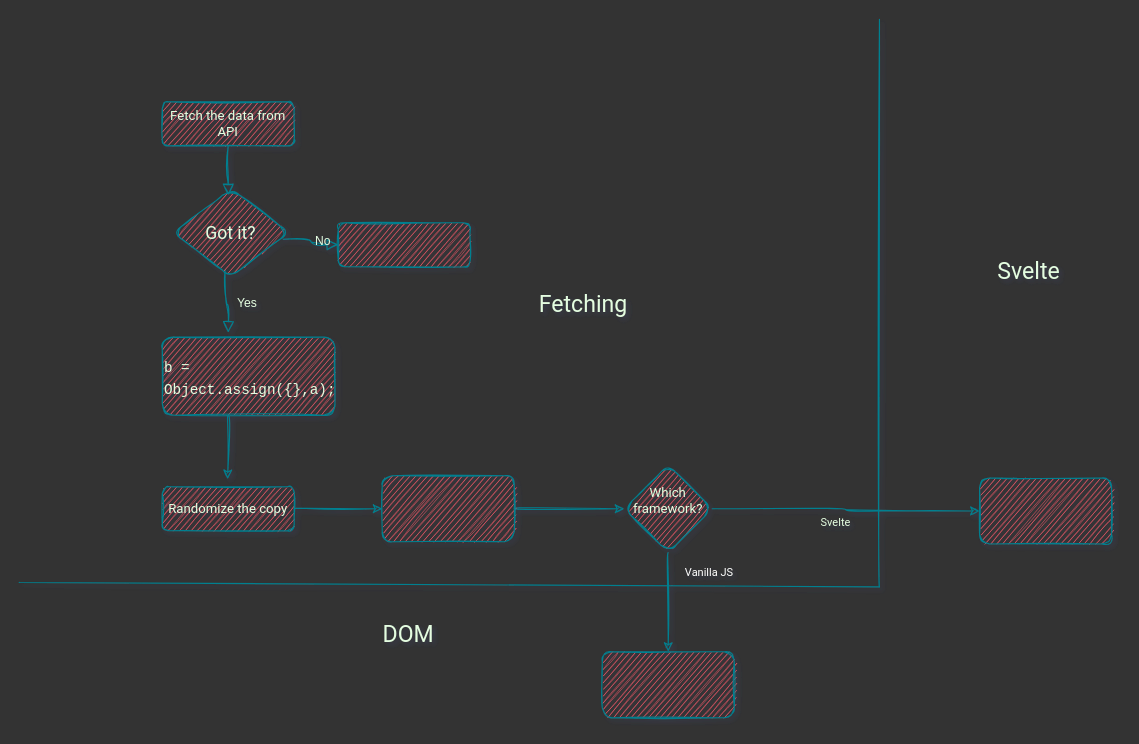
This 1139x744 diagram has some shape labels left out. Here are the shapes that lost their labels. From the top down, the centre of each, then its label:
At pixel 403 244: "Show error msg".
At pixel 447 508: "Create functions to slice the parts you want of the deck".
